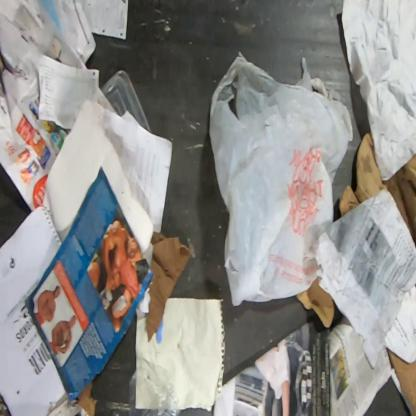cardboard: (339, 134, 416, 247), (146, 231, 192, 344), (388, 350, 416, 414)
rigid_plastic: (100, 70, 152, 134), (129, 366, 179, 415)
soft_plastic: (208, 53, 352, 306)
